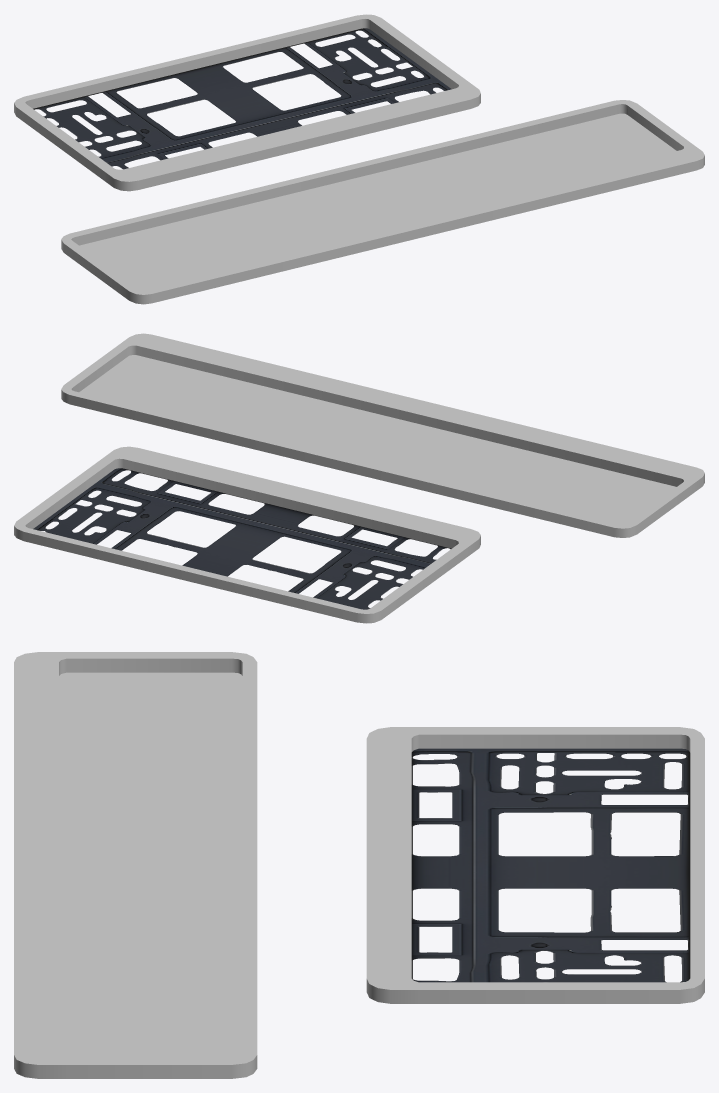
The model's file is numframe.fbx.
The picture shows the model from 3 angles, top to bottom: view 1: azimuth 30°, elevation 25°; view 2: azimuth 150°, elevation 25°; view 3: azimuth 270°, elevation 25°; orthographic projection. The views are drawn at different scales.
Visible parts, largest first — view 1: numberplate, numberplate.001; view 2: numberplate, numberplate.001; view 3: numberplate, numberplate.001.
Part boxes in pixels (box(x1,y1,x2,y2)): numberplate: box(61, 100, 704, 304); numberplate.001: box(14, 14, 480, 191); numberplate: box(61, 333, 704, 537); numberplate.001: box(14, 446, 480, 623); numberplate: box(14, 652, 257, 1078); numberplate.001: box(366, 727, 704, 1003).
Size of the model in its own units: 53.09 by 0.8374 by 37.55.
